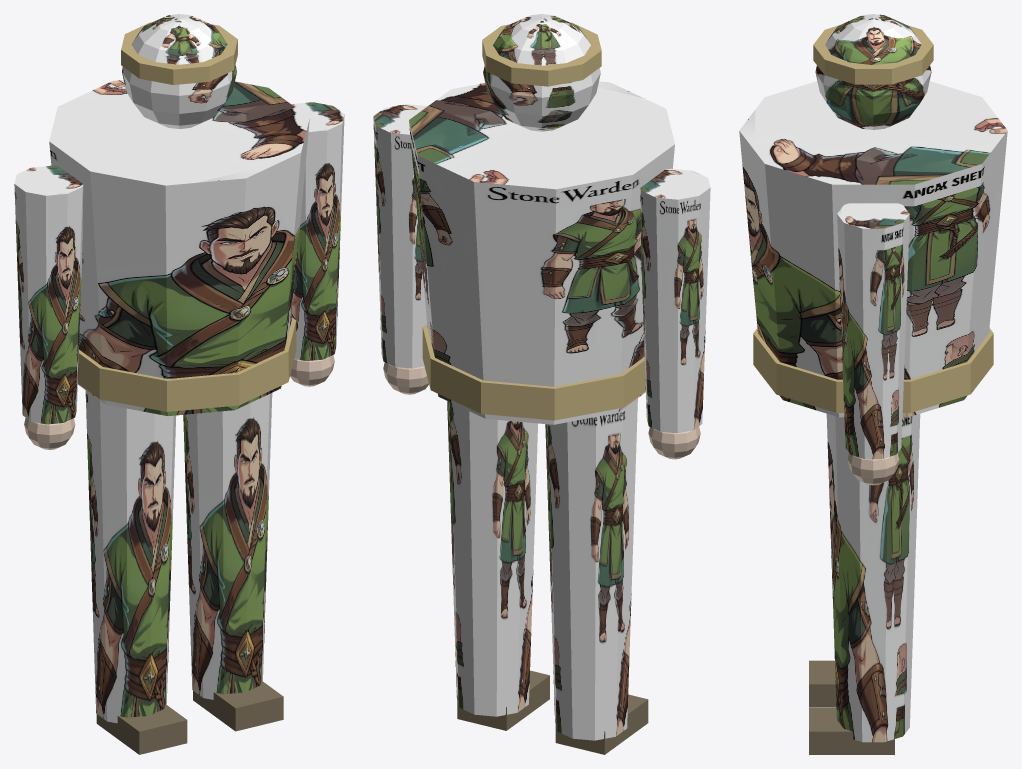
3 renders of one model, left to right at view 1: azimuth 30°, elevation 25°; view 2: azimuth 150°, elevation 25°; view 3: azimuth 270°, elevation 25°, orthographic. The views are drawn at different scales.
Parts seen in each view (by area): view 1: torso, thighR, thighL, armR, armL, head, belt, band, footR, footL, handR, handL; view 2: torso, thighR, thighL, armR, armL, head, belt, band, footR, footL, handR, handL; view 3: torso, thighL, armL, head, belt, band, footL, footR, handL.
Boxes of the visible parts, left/top/right/bottom form: torso: left=49, top=80, right=309, bottom=415; thighR: left=85, top=390, right=176, bottom=723; thighL: left=183, top=393, right=272, bottom=699; armR: left=14, top=165, right=83, bottom=424; armL: left=291, top=102, right=344, bottom=360; head: left=122, top=14, right=236, bottom=128; belt: left=77, top=317, right=296, bottom=411; band: left=121, top=22, right=237, bottom=84; footR: left=96, top=704, right=187, bottom=754; footL: left=193, top=681, right=283, bottom=731; handR: left=24, top=418, right=75, bottom=449; handL: left=290, top=355, right=334, bottom=386; torso: left=409, top=81, right=674, bottom=424; thighR: left=545, top=398, right=637, bottom=740; thighL: left=447, top=401, right=537, bottom=716; armR: left=640, top=168, right=710, bottom=433; armL: left=373, top=104, right=427, bottom=368; head: left=483, top=14, right=600, bottom=131; belt: left=422, top=324, right=645, bottom=420; band: left=482, top=22, right=601, bottom=86; footR: left=555, top=694, right=648, bottom=754; footL: left=457, top=670, right=549, bottom=730; handR: left=648, top=426, right=700, bottom=459; handL: left=383, top=362, right=428, bottom=394; torso: left=739, top=81, right=1007, bottom=417; thighL: left=826, top=414, right=920, bottom=742; armL: left=837, top=203, right=909, bottom=459; head: left=815, top=14, right=931, bottom=129; belt: left=753, top=328, right=993, bottom=412; band: left=813, top=25, right=933, bottom=84; footL: left=809, top=708, right=894, bottom=754; footR: left=809, top=660, right=836, bottom=707; handL: left=847, top=453, right=899, bottom=485.
Size of the model in its own units: 0.8627 by 1.79 by 0.624.
Materials: 4 (1 with a texture image).
